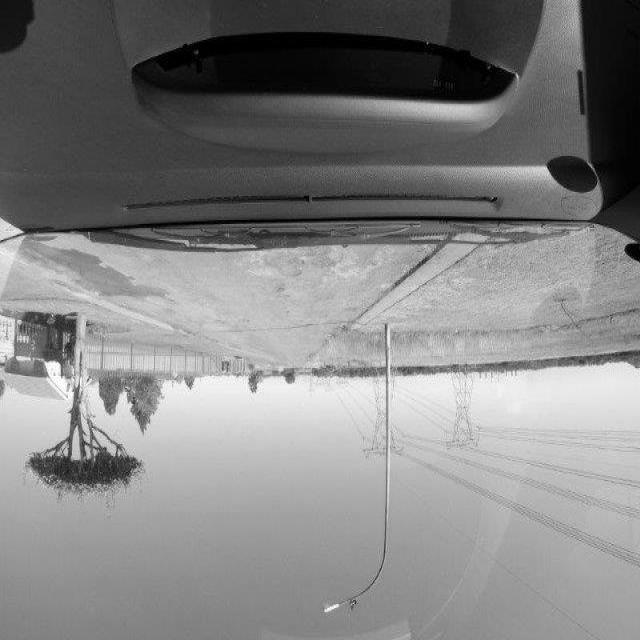lubang: (14, 252, 178, 304), (264, 250, 338, 286), (260, 280, 296, 310)
